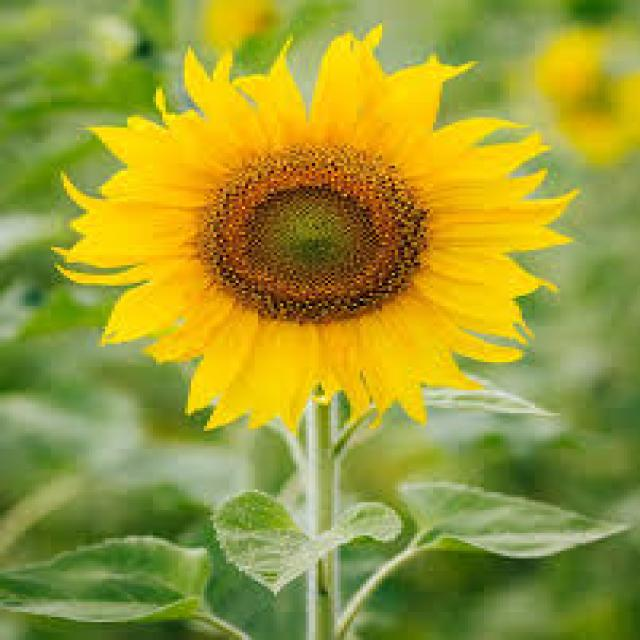sunflower: (64, 26, 589, 420), (565, 407, 575, 409)
